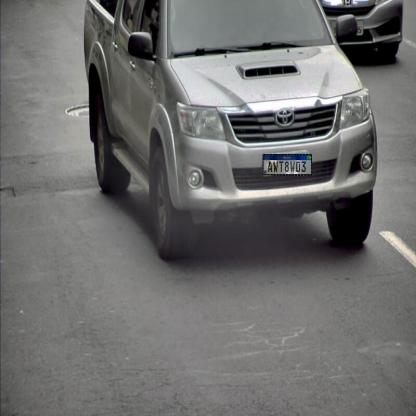PlacaM: (263, 154, 312, 175)
